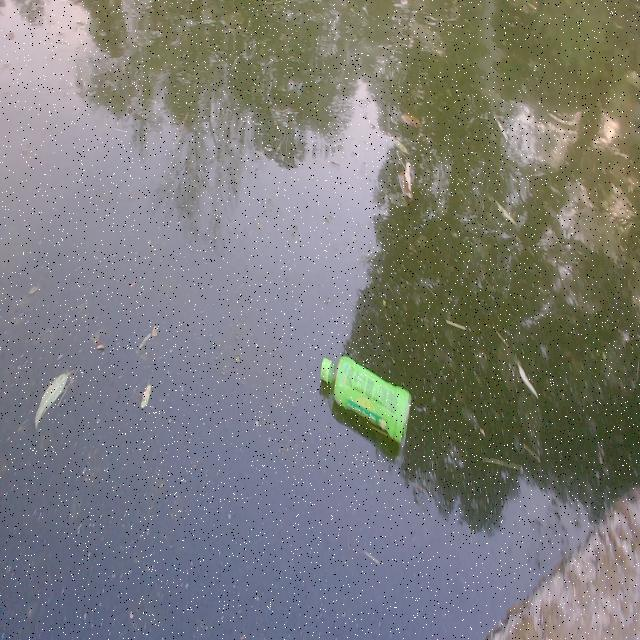Bottle: (315, 353, 415, 450)
